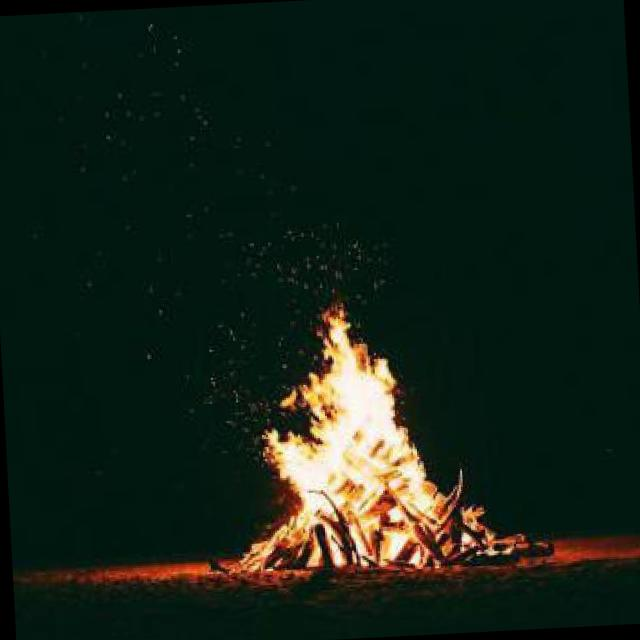Fire: (237, 294, 453, 568)
